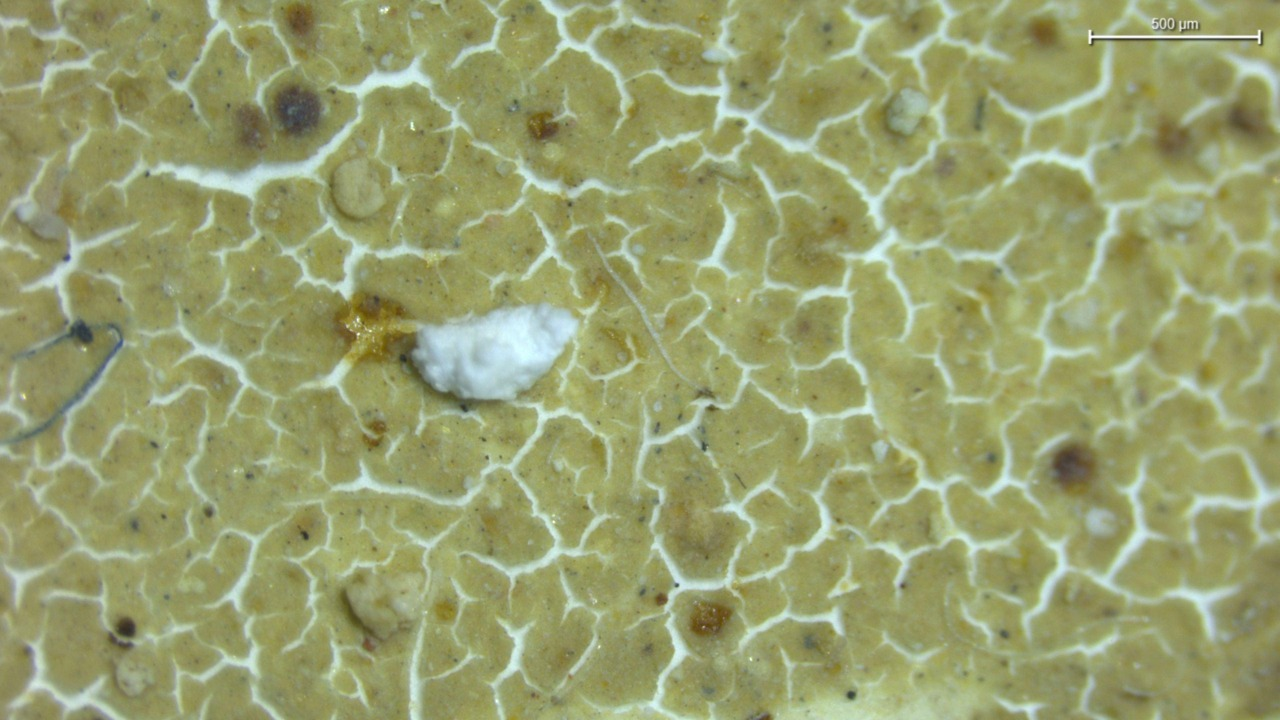microplastic_fragment: (413, 304, 578, 400), (336, 566, 426, 639), (333, 162, 387, 221), (889, 88, 928, 136)
